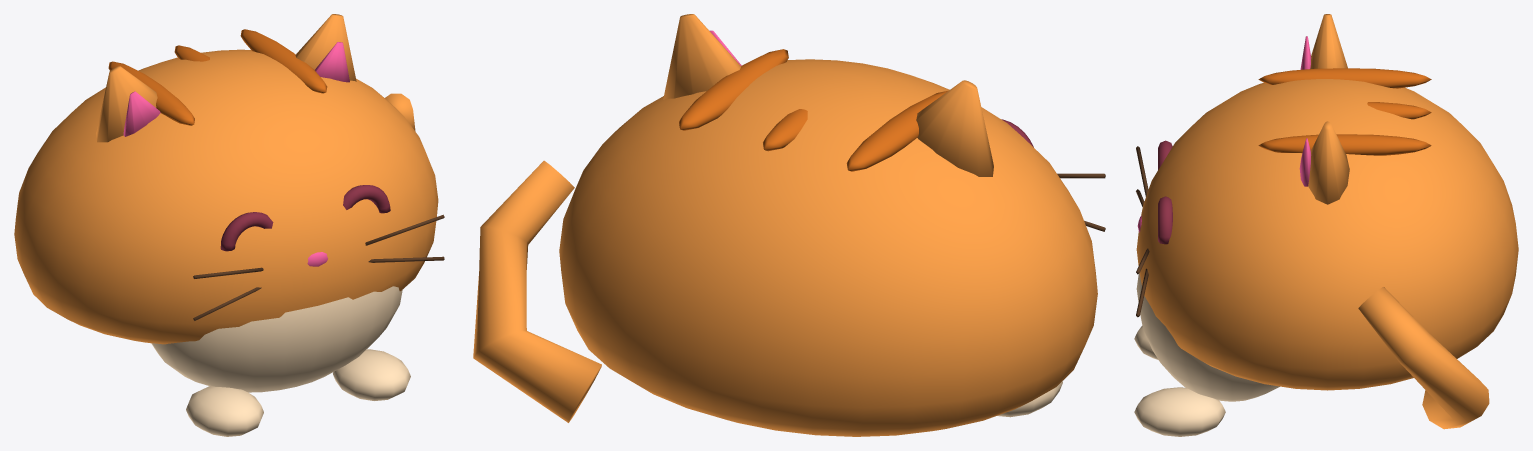
Rendered from G15_Chonk.fbx.
The picture shows the model from 3 angles, left to right: view 1: azimuth 30°, elevation 25°; view 2: azimuth 150°, elevation 25°; view 3: azimuth 270°, elevation 25°; orthographic projection. The views are drawn at different scales.
Visible parts, largest first — view 1: G15_Chonk__Body, G15_Chonk__Belly, G15_Chonk__Stripe, G15_Chonk__Nose, G15_Chonk__Mouth, G15_Chonk__Dark; view 2: G15_Chonk__Body, G15_Chonk__Stripe, G15_Chonk__Belly; view 3: G15_Chonk__Body, G15_Chonk__Belly, G15_Chonk__Stripe, G15_Chonk__Mouth, G15_Chonk__Nose, G15_Chonk__Dark.
Boxes of the visible parts, x1,y1,x2,y2 form: G15_Chonk__Body: (14, 14, 438, 344); G15_Chonk__Belly: (151, 286, 410, 436); G15_Chonk__Stripe: (108, 29, 327, 125); G15_Chonk__Nose: (123, 42, 349, 266); G15_Chonk__Mouth: (220, 185, 390, 251); G15_Chonk__Dark: (193, 214, 444, 320); G15_Chonk__Body: (473, 14, 1097, 436); G15_Chonk__Stripe: (679, 49, 948, 171); G15_Chonk__Belly: (997, 381, 1062, 417); G15_Chonk__Body: (1136, 14, 1518, 429); G15_Chonk__Belly: (1134, 273, 1279, 436); G15_Chonk__Stripe: (1258, 68, 1431, 155); G15_Chonk__Mouth: (1158, 140, 1172, 244); G15_Chonk__Nose: (1137, 36, 1311, 232); G15_Chonk__Dark: (1136, 146, 1149, 317).
Bounding box in the file's own units: 2.87 × 2.07 × 2.21.
